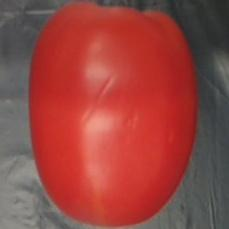unripe: (25, 2, 203, 229)
